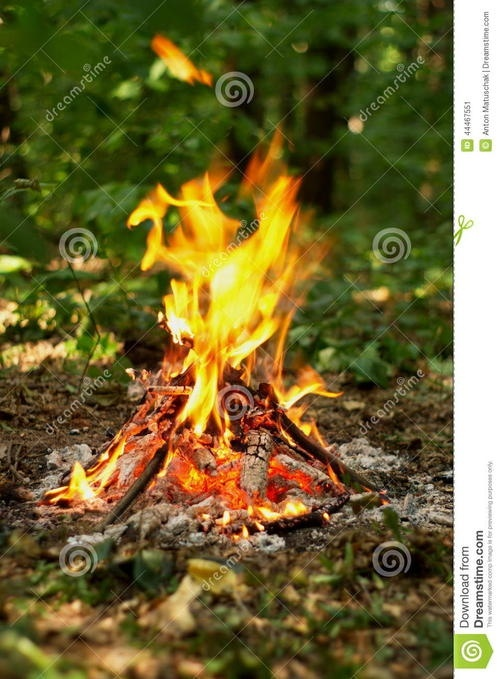fire: (119, 123, 340, 518), (149, 34, 212, 84)
